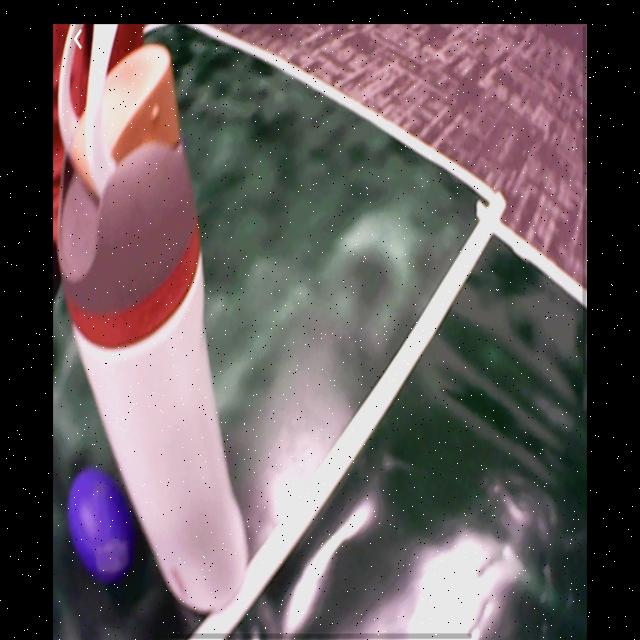ball: (67, 468, 140, 583)
